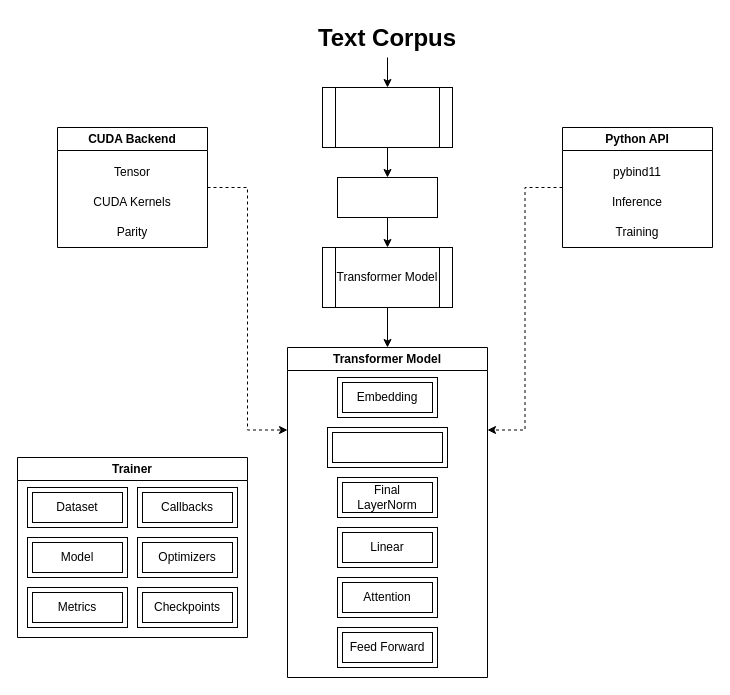
Some shapes in this 730 by 695 pixel diagram are drawn without their labels. The shapes that lost their labels are listed below. From the top down, each one's centre as x and y in pixels, then its label:
(x=387, y=117): Tokenizer Char | Word | BPE
(x=387, y=197): TextDataset
(x=387, y=447): TransformerBlock
